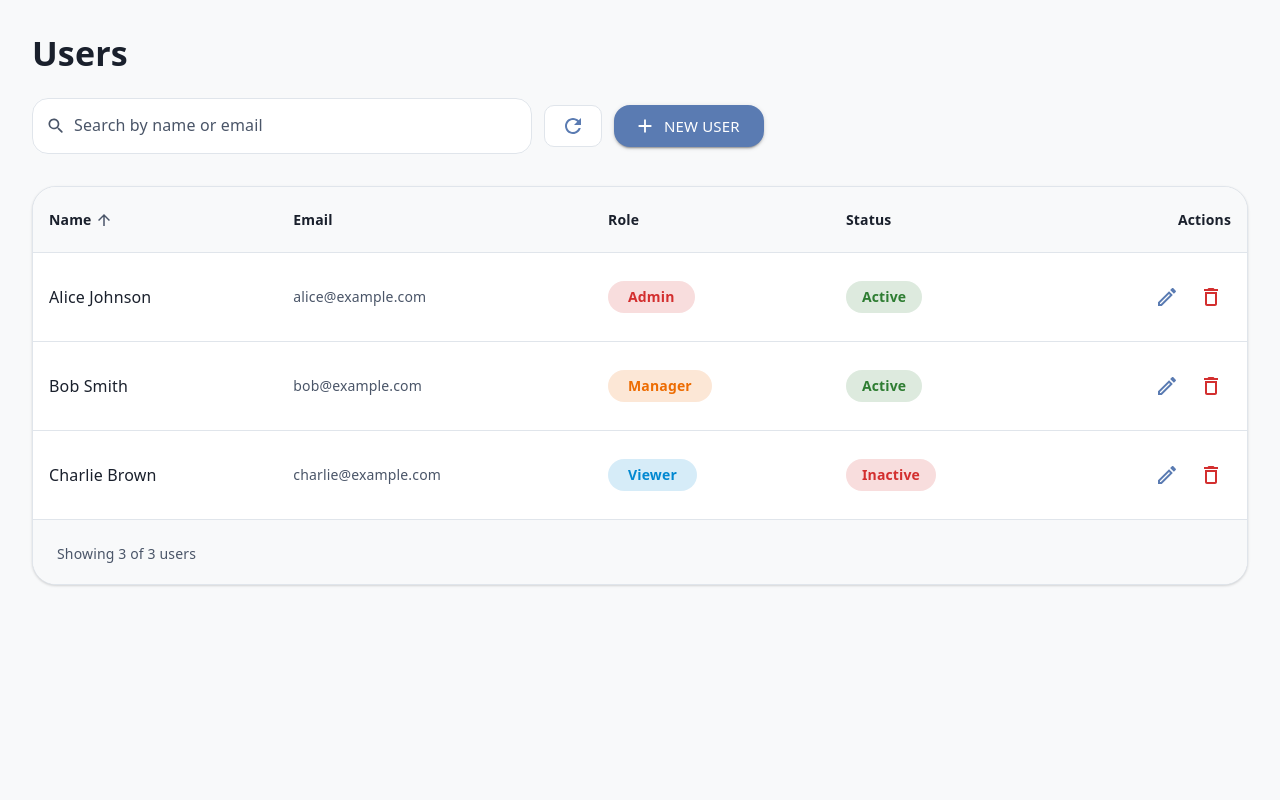
it: UsersFlow - Filtering › should filter users by name
Check: the text "Alice Johnson" is shown, box 49,286 -> 151,308
Type in search box
Type "Alice" into the field with placeholder "Search by name or email" at (303, 126), box 74,98 -> 532,154
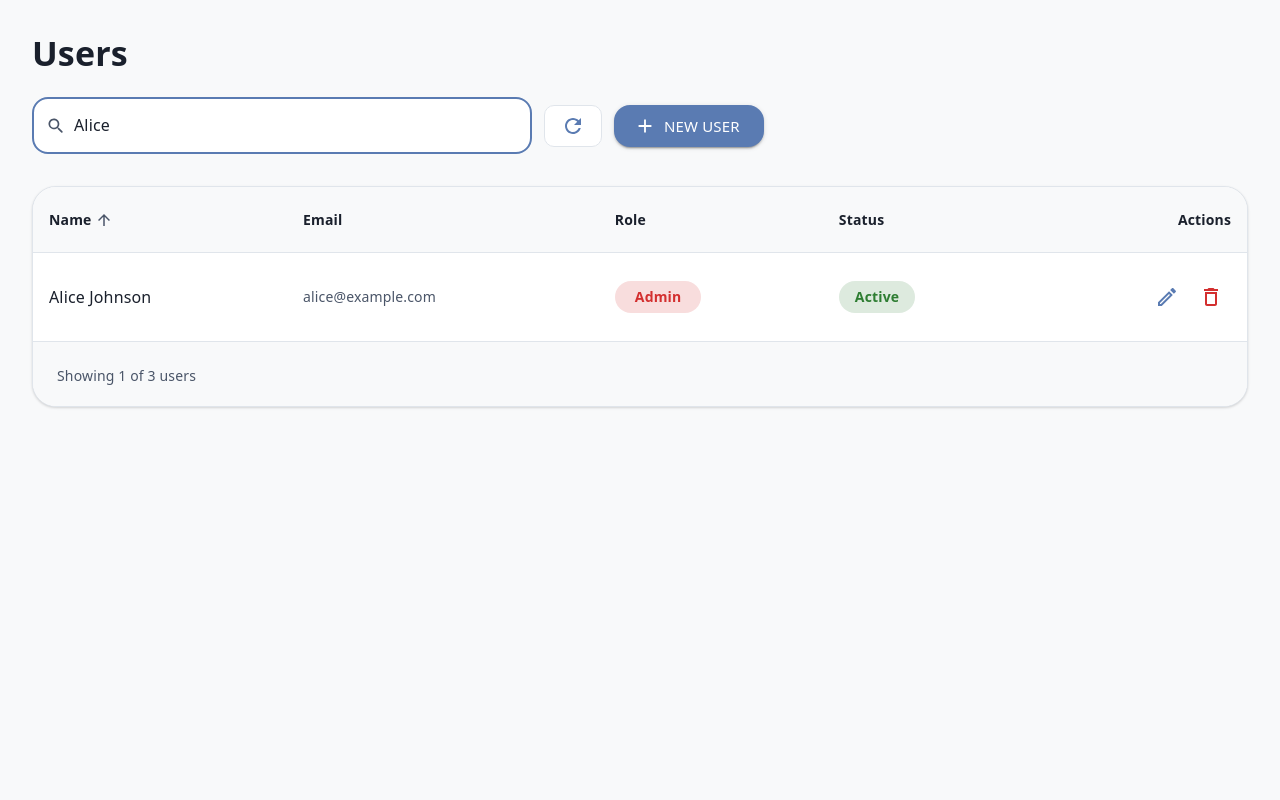
Check: the text "Bob Smith" is gone
Check: the text "Charlie Brown" is gone
Check: the text "Showing 1 of 3 users" is shown, box 57,366 -> 196,385
